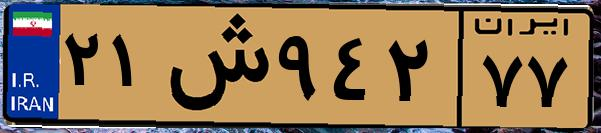1: (110, 28, 158, 98)
2: (385, 28, 445, 110), (57, 26, 110, 100)
4: (330, 28, 385, 110)
7: (475, 38, 525, 113), (525, 38, 570, 115)
9: (270, 28, 330, 110)
ش: (158, 12, 270, 120)
